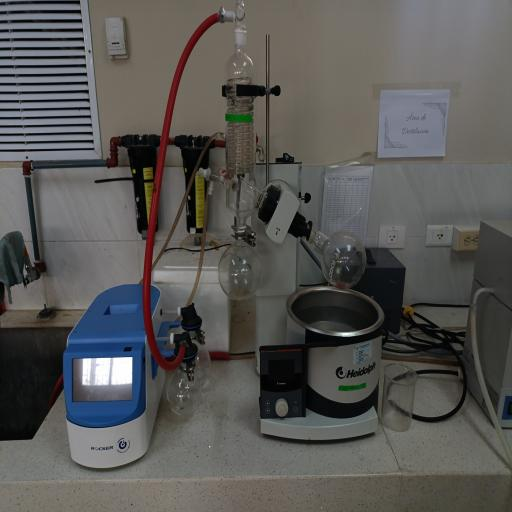Sistema_Rotaevaporacion: (70, 1, 390, 462)
